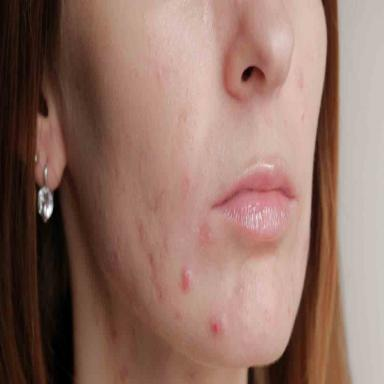acne: (199, 221, 211, 248), (181, 266, 193, 292), (210, 319, 222, 335)
